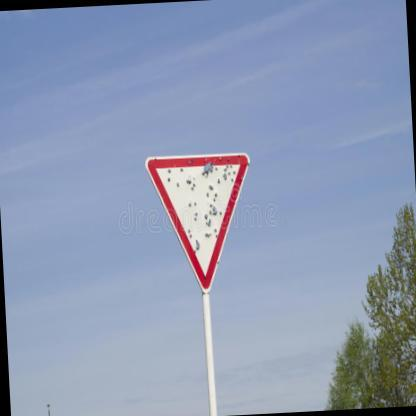obstructed_road_sign: (145, 154, 250, 297)
